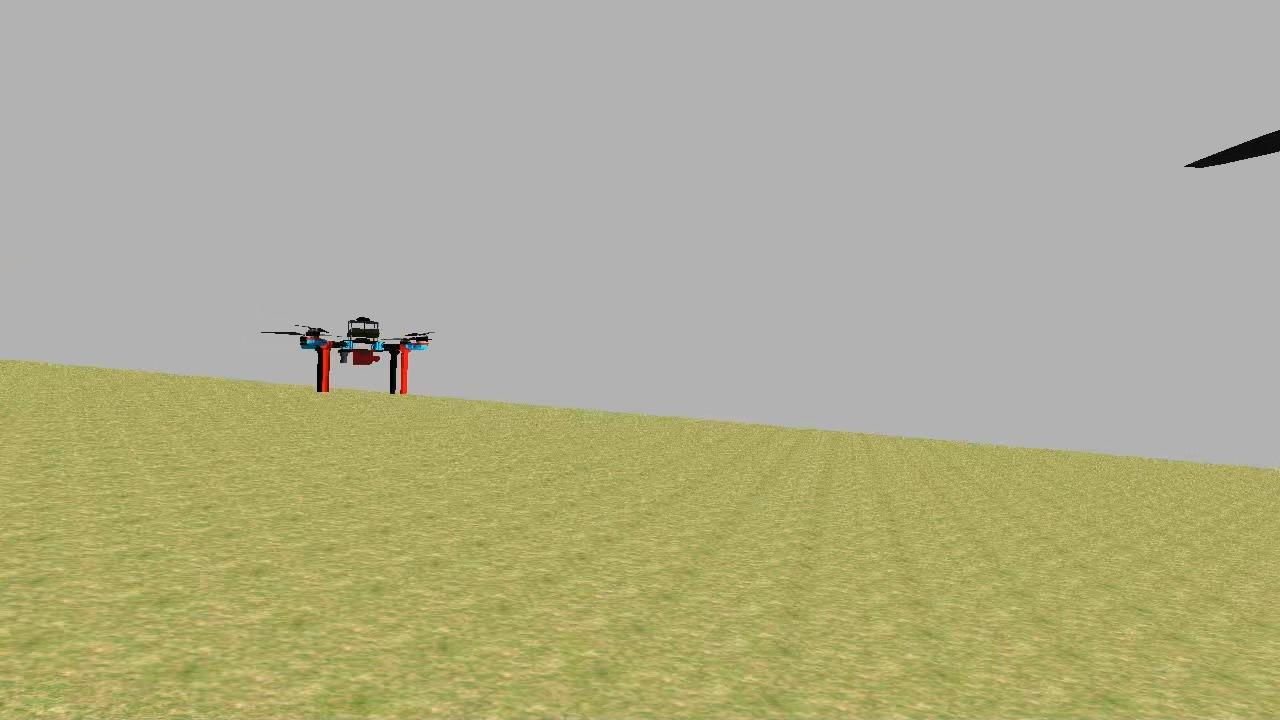UAV: (294, 306, 434, 400)
